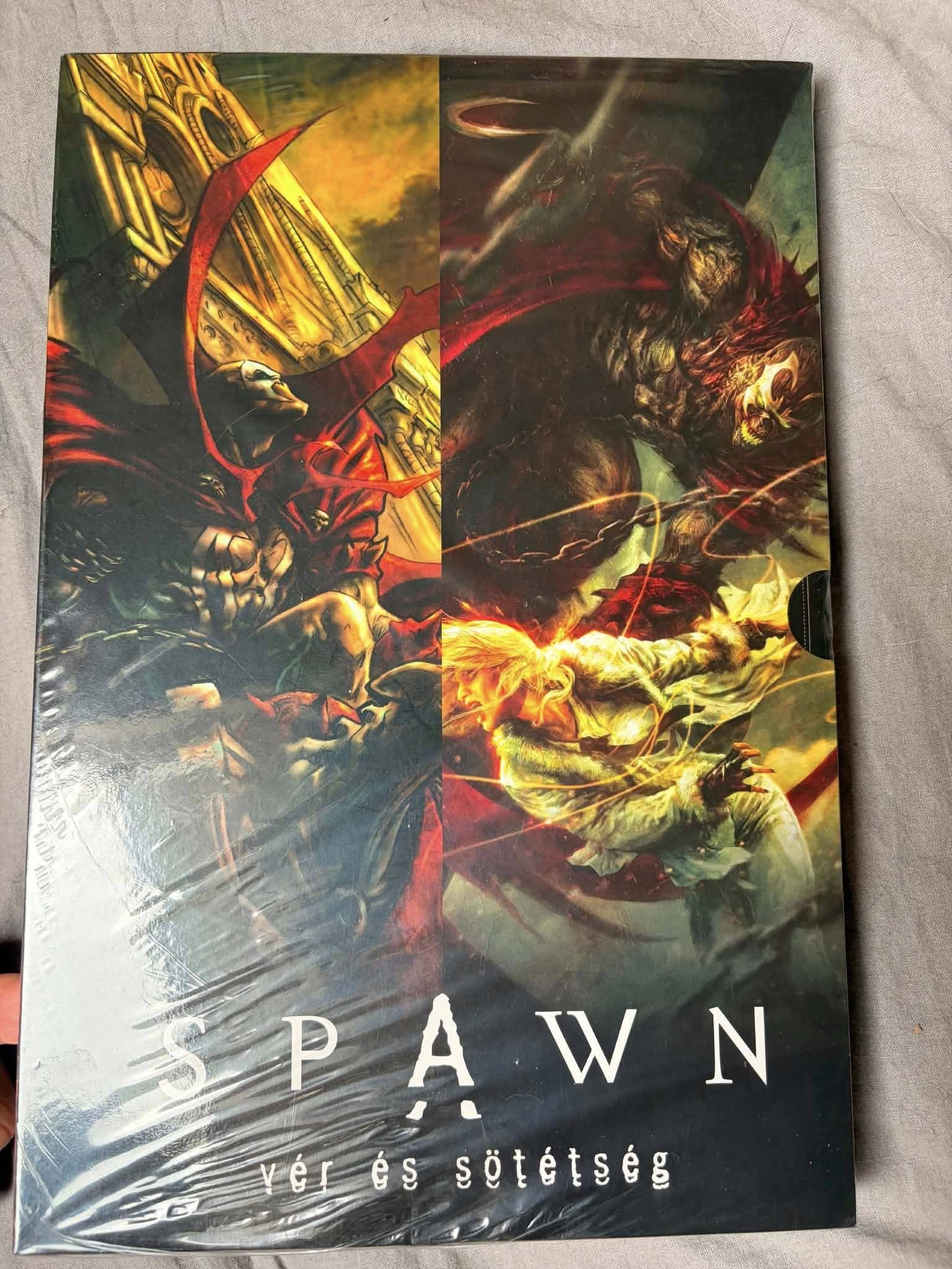comic: (17, 53, 853, 1252)
